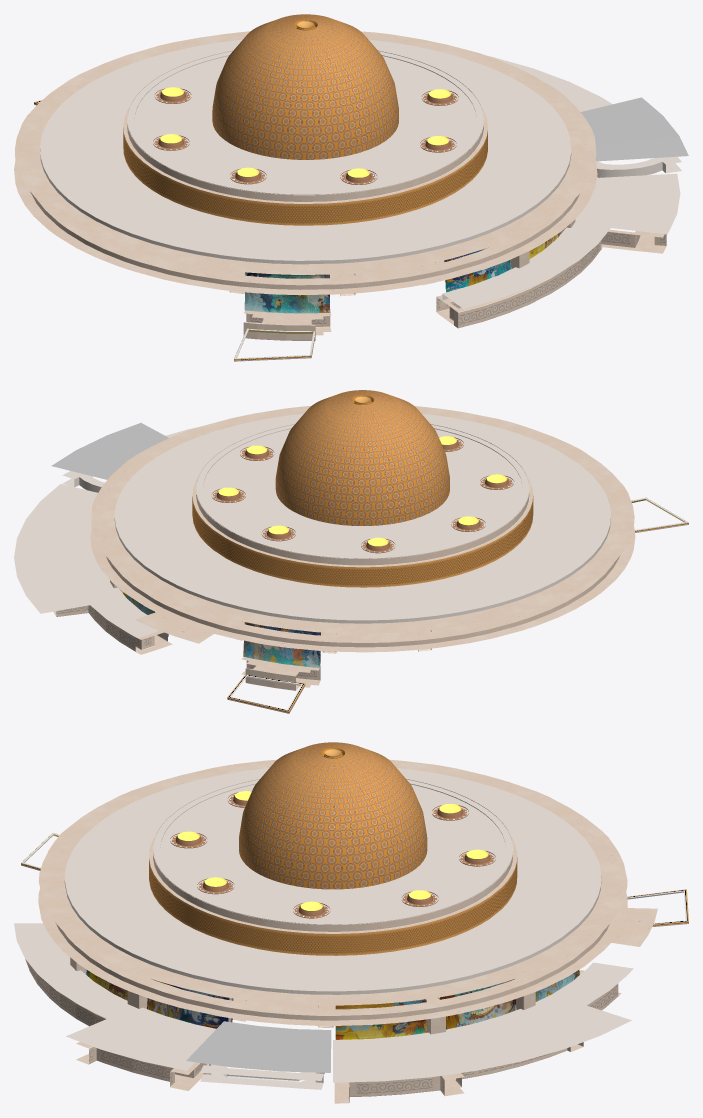
The model's file is Ceiling.fbx.
The picture shows the model from 3 angles, top to bottom: view 1: azimuth 30°, elevation 25°; view 2: azimuth 150°, elevation 25°; view 3: azimuth 270°, elevation 25°; orthographic projection. The views are drawn at different scales.
Visible parts, largest first — view 1: CeilingPilarTop, CeilingDome, CeilingPilarBottom, Mural, Ceiling_Enterance; view 2: CeilingPilarTop, CeilingDome, CeilingPilarBottom, Mural, Ceiling_Enterance; view 3: CeilingPilarTop, CeilingDome, CeilingPilarBottom, Mural, Ceiling_Enterance.
Boxes of the visible parts, bbox=[...] form: CeilingPilarTop: bbox=[14, 31, 597, 295]; CeilingDome: bbox=[127, 14, 484, 195]; CeilingPilarBottom: bbox=[34, 56, 688, 361]; Mural: bbox=[244, 232, 560, 313]; Ceiling_Enterance: bbox=[596, 156, 681, 177]; CeilingPilarTop: bbox=[90, 406, 635, 652]; CeilingDome: bbox=[196, 390, 529, 558]; CeilingPilarBottom: bbox=[14, 423, 688, 713]; Mural: bbox=[123, 592, 320, 667]; Ceiling_Enterance: bbox=[62, 471, 104, 492]; CeilingPilarTop: bbox=[38, 759, 657, 1025]; CeilingDome: bbox=[152, 742, 513, 924]; CeilingPilarBottom: bbox=[14, 832, 688, 1103]; Mural: bbox=[86, 970, 579, 1039]; Ceiling_Enterance: bbox=[200, 1064, 324, 1089].
Size of the model in its own units: 4072 by 1270 by 4012.
